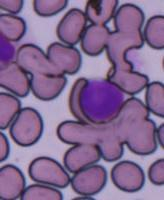L: (80, 78, 126, 122)
